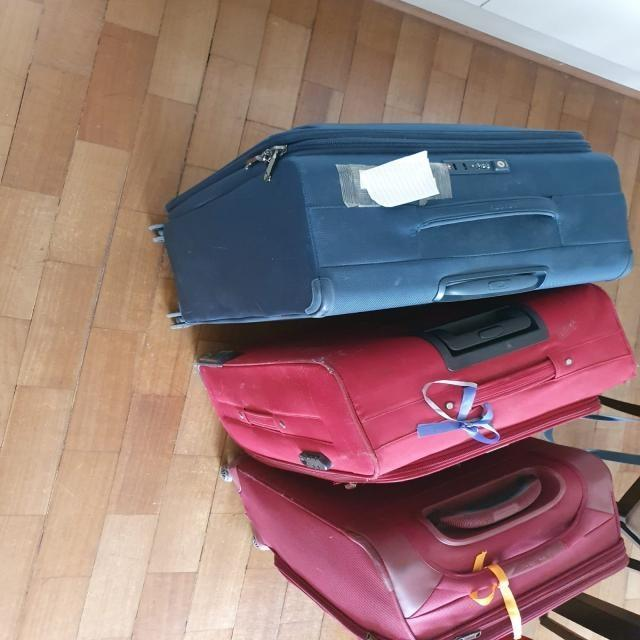Suitcase: (149, 122, 640, 331), (196, 279, 640, 487), (206, 436, 633, 640)
